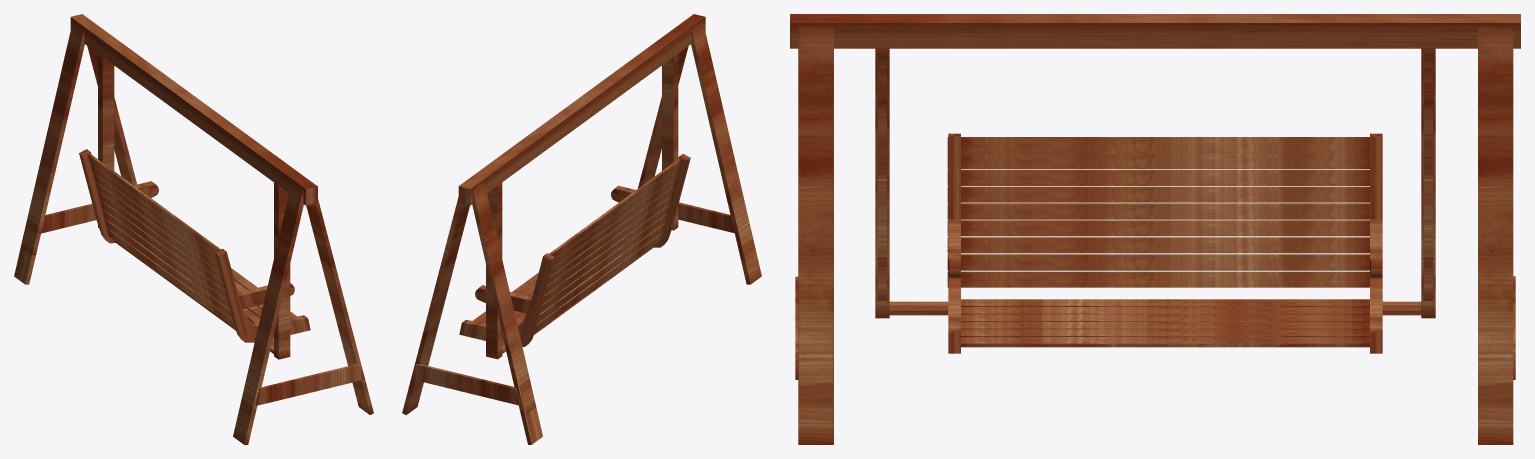
File: woodswing.fbx
3 views of the same model, side by side, from view 1: azimuth 30°, elevation 25°; view 2: azimuth 150°, elevation 25°; view 3: azimuth 270°, elevation 25° (orthographic). The views are drawn at different scales.
Parts seen in each view (by area): view 1: pCube1, pCube5, pCube4, pCube2, pCube40, pCube6, pCube18, pCube38, pCube9, pCube39, pCube3, pCube36 (+6 smaller); view 2: pCube1, pCube4, pCube5, pCube3, pCube9, pCube7, pCube18, pCube38, pCube40, pCube2, pCube39, pCube36 (+6 smaller); view 3: pCube1, pCube2, pCube3, pCube35, pCube38, pCube18, pCube32, pCube34, pCube36, pCube37, pCube39, pCube33 (+8 smaller).
Part boxes in pixels (bbox=[...]): pCube1: bbox=[70, 14, 317, 359]; pCube5: bbox=[14, 21, 84, 284]; pCube4: bbox=[233, 181, 303, 444]; pCube2: bbox=[306, 199, 373, 414]; pCube40: bbox=[215, 248, 310, 342]; pCube6: bbox=[255, 364, 364, 405]; pCube18: bbox=[88, 153, 228, 262]; pCube38: bbox=[104, 218, 244, 326]; pCube9: bbox=[79, 149, 158, 243]; pCube39: bbox=[106, 227, 246, 335]; pCube3: bbox=[87, 46, 136, 185]; pCube36: bbox=[99, 199, 239, 307]; pCube1: bbox=[458, 14, 705, 359]; pCube4: bbox=[691, 21, 761, 284]; pCube5: bbox=[472, 181, 542, 444]; pCube3: bbox=[402, 197, 469, 414]; pCube9: bbox=[459, 253, 554, 346]; pCube7: bbox=[411, 364, 520, 405]; pCube18: bbox=[549, 158, 681, 258]; pCube38: bbox=[537, 222, 665, 323]; pCube40: bbox=[611, 154, 690, 247]; pCube2: bbox=[638, 46, 688, 188]; pCube39: bbox=[534, 232, 663, 333]; pCube36: bbox=[542, 204, 669, 303]; pCube1: bbox=[790, 14, 1520, 318]; pCube2: bbox=[798, 27, 833, 444]; pCube3: bbox=[1478, 27, 1513, 444]; pCube35: bbox=[947, 203, 1369, 219]; pCube38: bbox=[947, 254, 1369, 270]; pCube18: bbox=[947, 137, 1369, 153]; pCube32: bbox=[947, 153, 1369, 169]; pCube34: bbox=[947, 186, 1369, 202]; pCube36: bbox=[947, 220, 1369, 236]; pCube37: bbox=[947, 237, 1369, 253]; pCube39: bbox=[947, 271, 1369, 287]; pCube33: bbox=[947, 170, 1369, 185].
Bounding box in the file's own units: 2.51 × 4.52 × 7.89.
